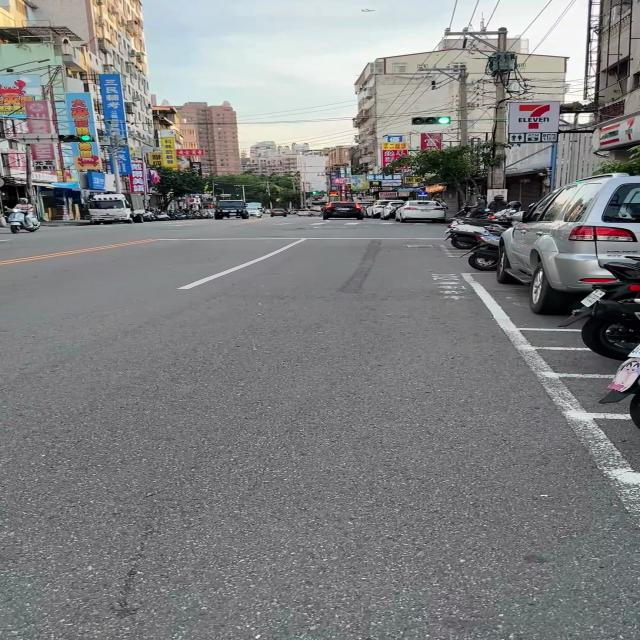car: (496, 172, 640, 314), (395, 200, 446, 222), (322, 201, 364, 220), (214, 200, 249, 219)
crosswalk: (270, 222, 430, 225)
motocycle: (560, 261, 640, 360), (7, 209, 40, 234)
trunk: (88, 194, 146, 224)
